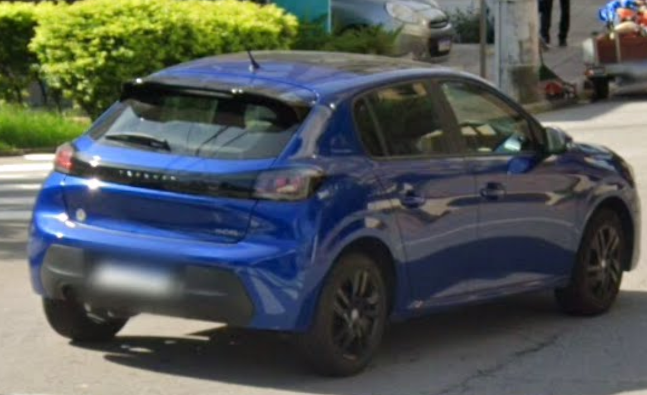car: (26, 49, 642, 379)
